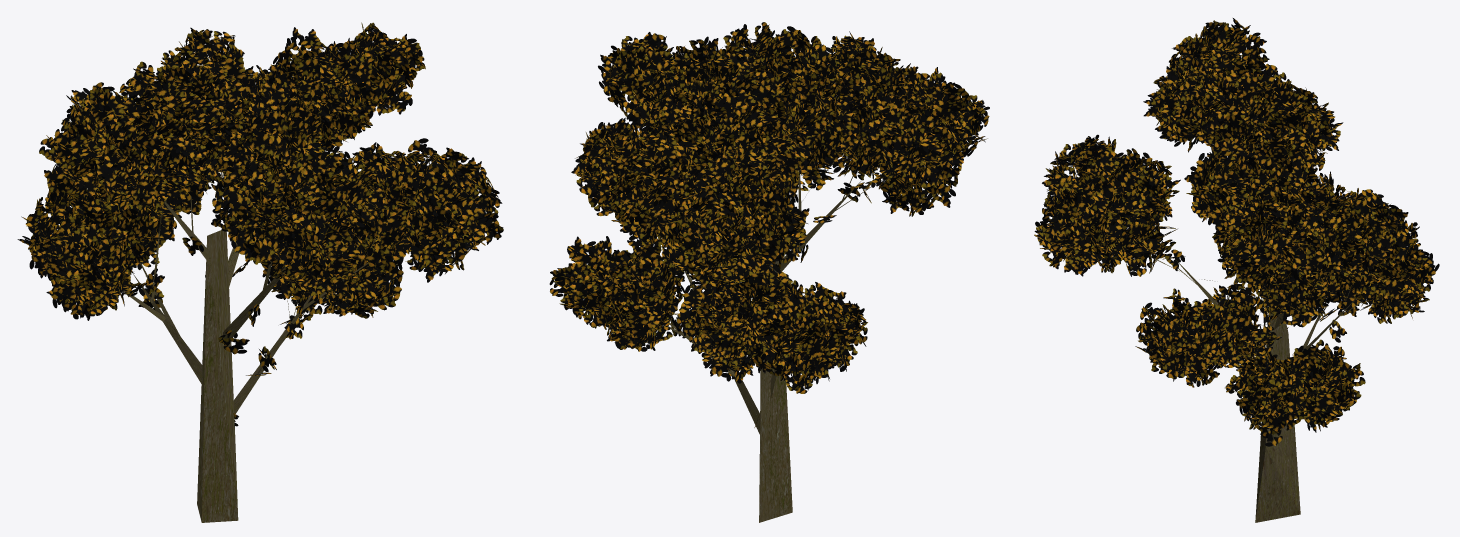
Rendered from oak_broadleaf_v03_LOD1.fbx.
The picture shows the model from 3 angles, left to right: view 1: azimuth 30°, elevation 25°; view 2: azimuth 150°, elevation 25°; view 3: azimuth 270°, elevation 25°; orthographic projection. The views are drawn at different scales.
Visible parts, largest first — view 1: oak_broadleaf_v03_LOD1; view 2: oak_broadleaf_v03_LOD1; view 3: oak_broadleaf_v03_LOD1.
Boxes of the visible parts, x1,y1,x2,y2 form: oak_broadleaf_v03_LOD1: (17,22,503,522); oak_broadleaf_v03_LOD1: (549,22,989,522); oak_broadleaf_v03_LOD1: (1034,18,1439,522).
Bounding box in the file's own units: 2279 × 2061 × 2385.
Materials: 2 (2 with a texture image).
